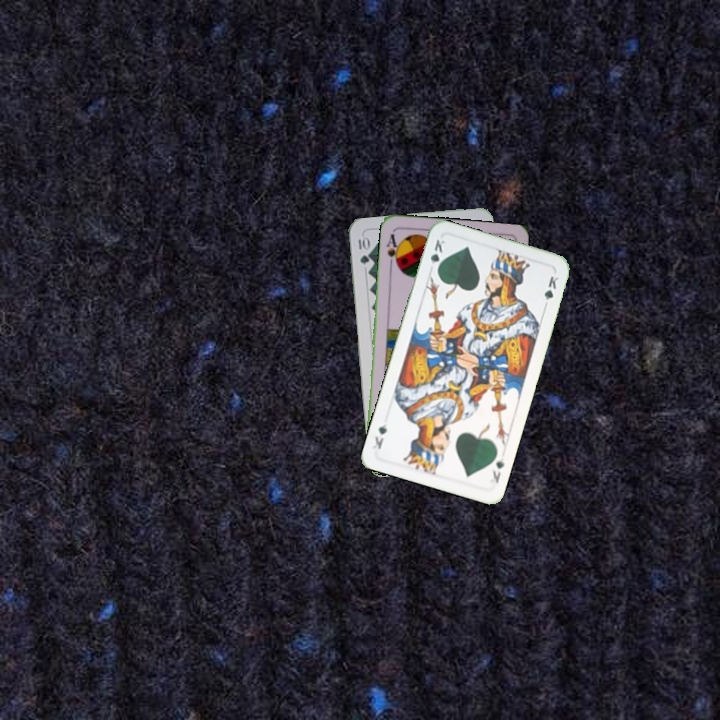G10: (354, 233, 371, 267)
GK: (426, 235, 447, 275), (488, 454, 507, 486)
SA: (382, 230, 402, 270)
